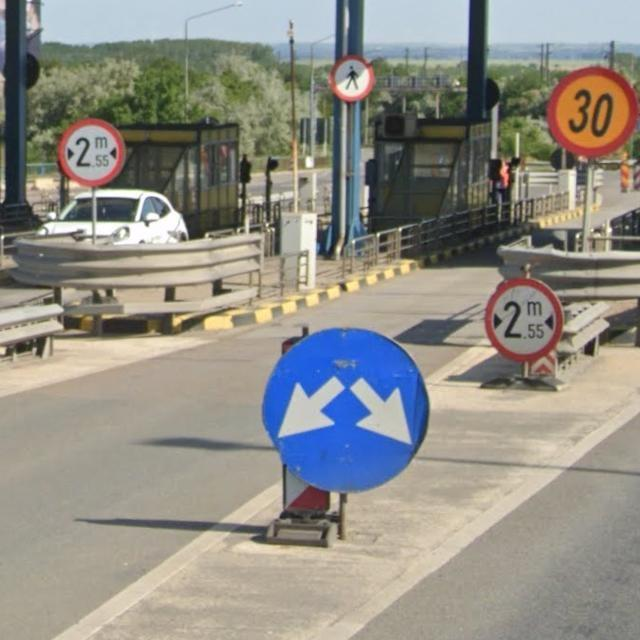forb_speed_over_30: (546, 65, 639, 156)
